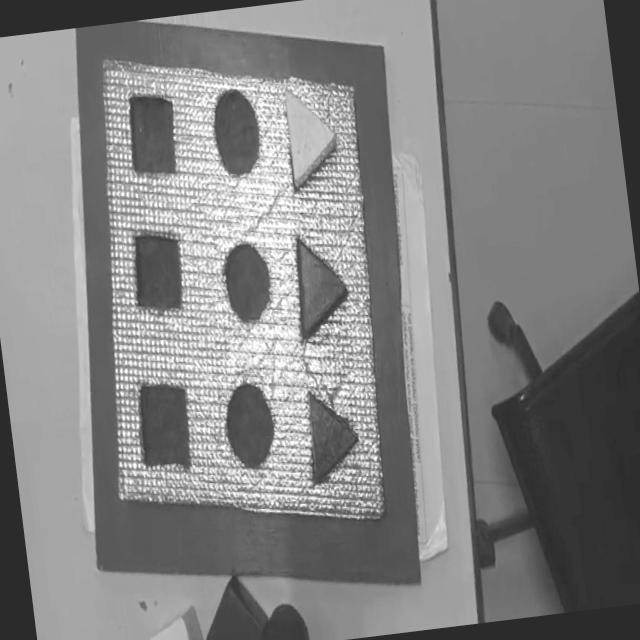bcircle: (259, 601, 309, 640)
btriangle: (307, 392, 357, 483)
mtcircle: (220, 379, 280, 472), (208, 86, 264, 179), (218, 238, 276, 326)
mtcube: (132, 377, 195, 474), (128, 227, 188, 316), (124, 90, 182, 182)
rcube: (205, 577, 266, 639)
rtriangle: (296, 239, 346, 339)
wb: (70, 32, 407, 550)
ycube: (143, 609, 202, 640)
ytriangle: (279, 85, 342, 192)
